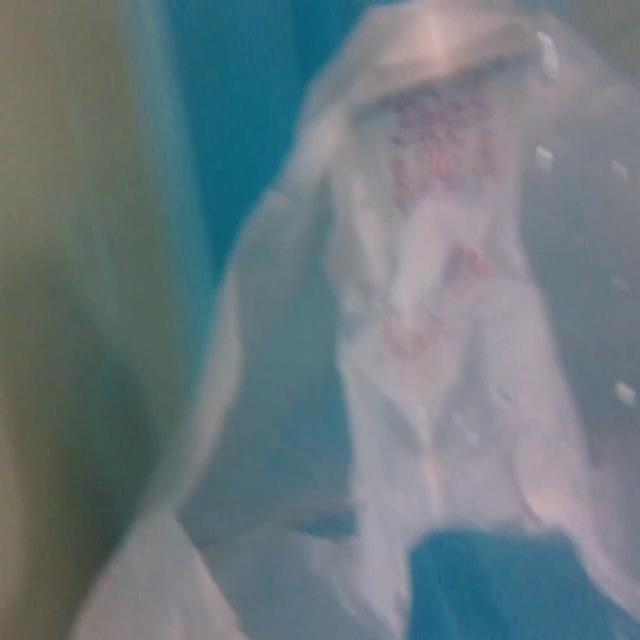plastic bags: (65, 0, 636, 640)
